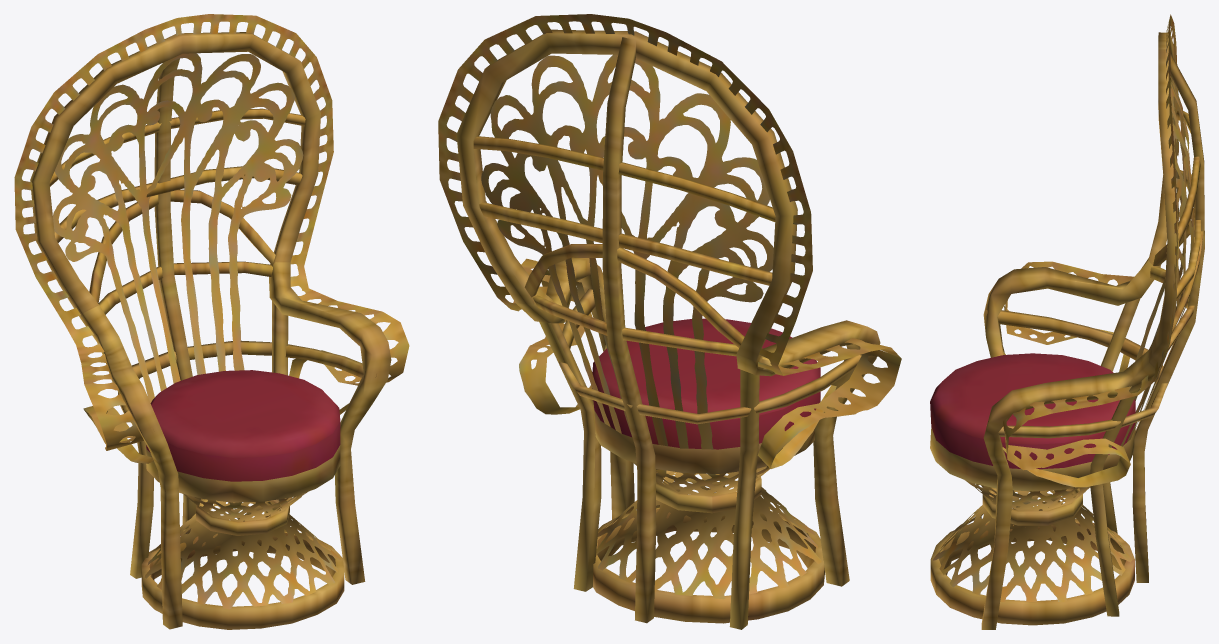
3 renders of one model, left to right at view 1: azimuth 30°, elevation 25°; view 2: azimuth 150°, elevation 25°; view 3: azimuth 270°, elevation 25°, orthographic. The views are drawn at different scales.
Bounding box in the file's own units: 9.85 × 15.43 × 7.07.
Materials: 1 (1 with a texture image).
